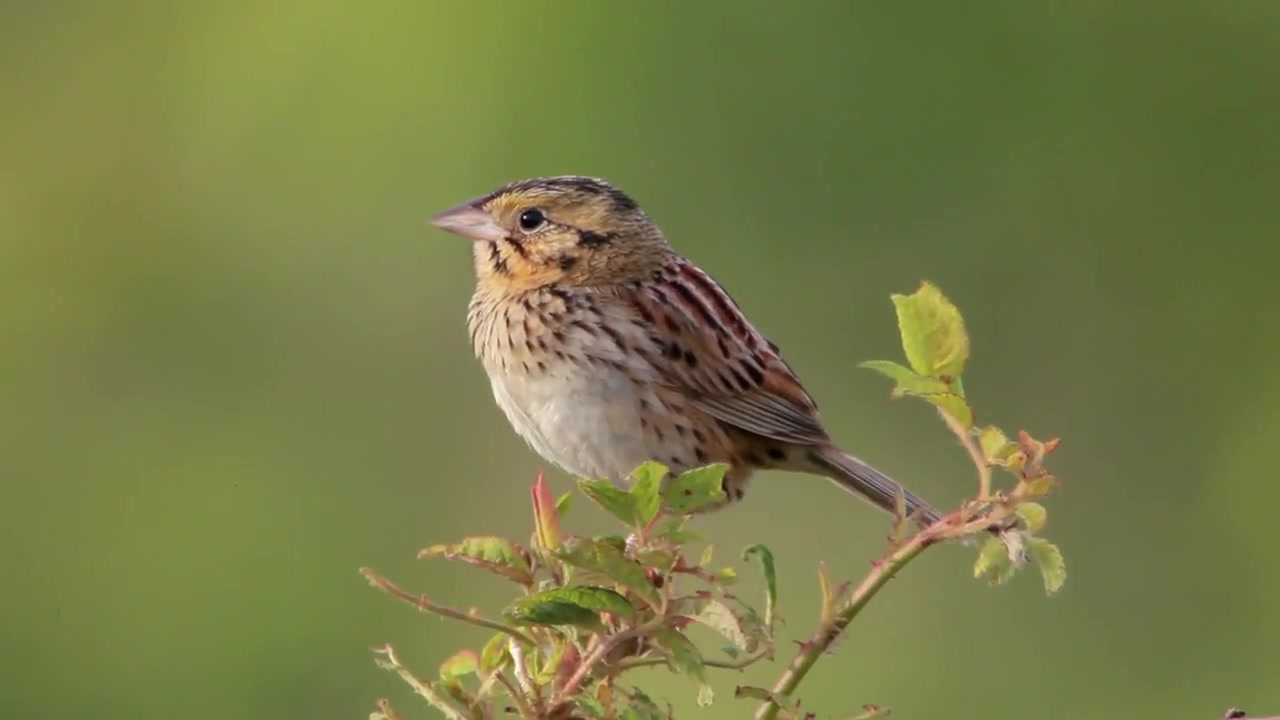bird: (426, 175, 963, 541)
